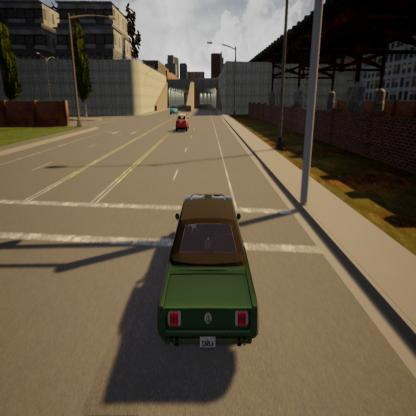Cars: (146, 185, 268, 363), (176, 113, 190, 137), (168, 103, 178, 116)
